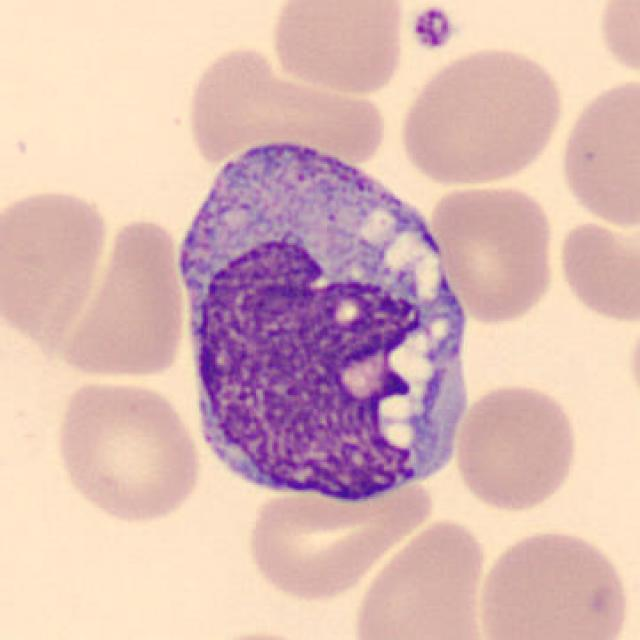Monocyte: (172, 118, 486, 515)
Platelets: (407, 4, 457, 54)
RBC: (240, 458, 437, 606), (395, 42, 567, 190), (182, 51, 388, 171), (50, 376, 206, 527), (52, 213, 190, 383), (425, 180, 560, 326), (0, 182, 112, 352), (471, 523, 633, 640), (348, 516, 492, 640), (452, 379, 582, 515), (266, 0, 411, 97), (555, 74, 638, 231), (553, 215, 638, 326), (592, 0, 638, 85), (626, 307, 640, 421)
